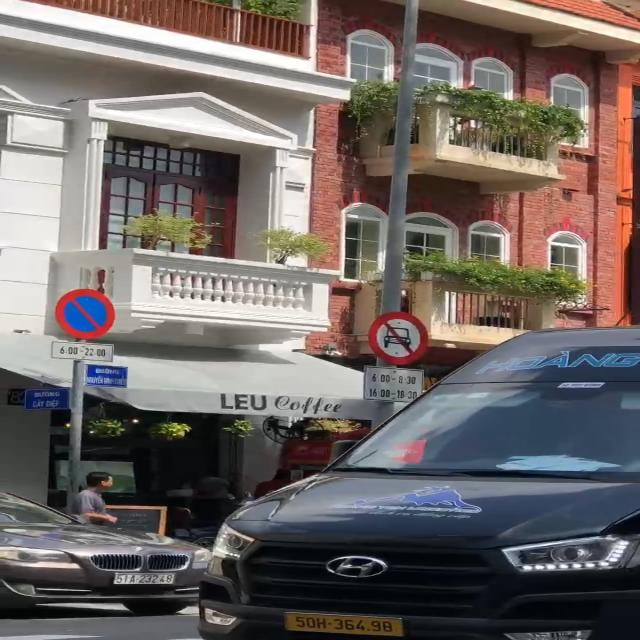Bien bao cam do xe: (48, 285, 124, 341)
Bien bao cam xe oto: (366, 305, 440, 365)
